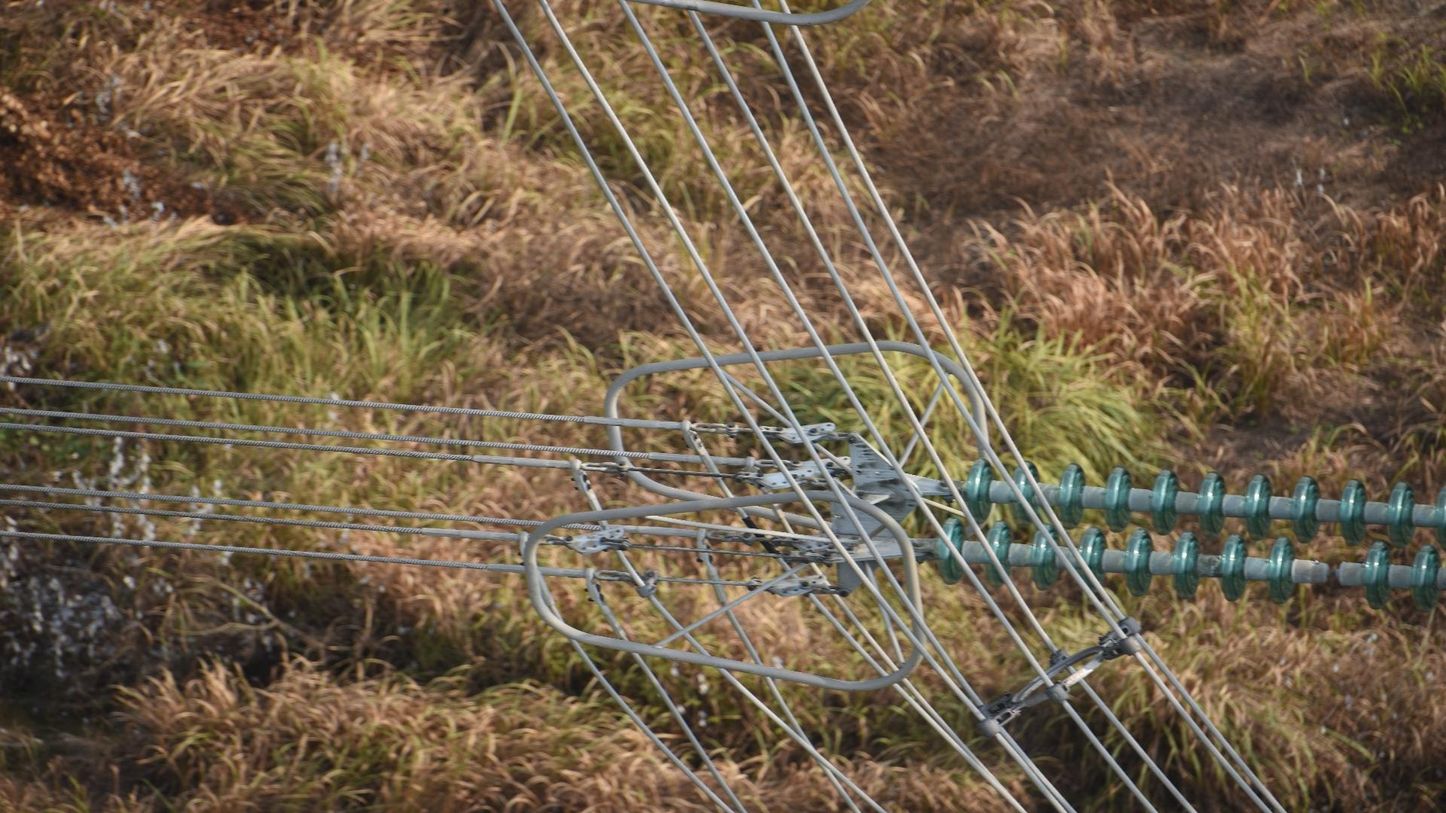insulator: (929, 454, 1446, 617)
